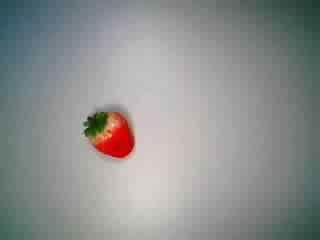strawberry: (73, 98, 146, 162)
